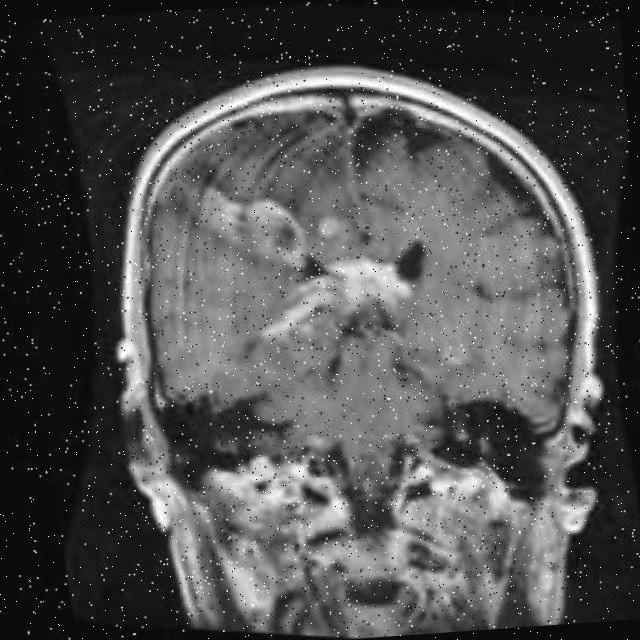LMCI: (299, 231, 401, 347), (210, 190, 306, 280)
